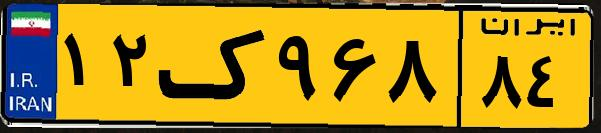1: (57, 26, 110, 100)
2: (110, 28, 158, 98)
4: (525, 38, 570, 115)
6: (330, 28, 385, 110)
8: (385, 28, 445, 110), (475, 38, 525, 113)
9: (270, 28, 330, 110)
ک: (158, 12, 270, 120)
